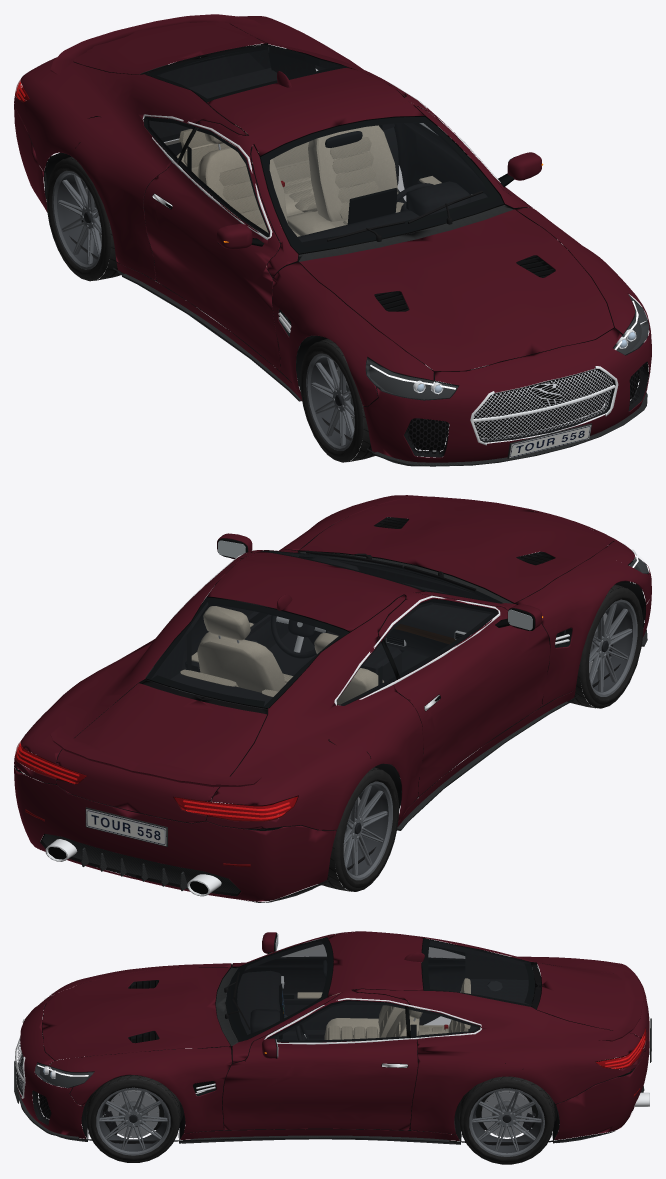
The picture shows the model from 3 angles, top to bottom: view 1: azimuth 30°, elevation 25°; view 2: azimuth 150°, elevation 25°; view 3: azimuth 270°, elevation 25°; orthographic projection. The views are drawn at different scales.
Parts seen in each view (by area): view 1: Body, Wheel_FR, Wheel_RR; view 2: Body, Wheel_RR, Wheel_FR, Steering_Wheel; view 3: Body, Wheel_RL, Wheel_FL.
Boxes of the visible parts, x1=… form: Body: x1=14, y1=14, x2=651, y2=466; Wheel_FR: x1=300, y1=338, x2=375, y2=462; Wheel_RR: x1=46, y1=156, x2=124, y2=281; Body: x1=14, y1=495, x2=651, y2=902; Wheel_RR: x1=318, y1=767, x2=398, y2=891; Wheel_FR: x1=568, y1=584, x2=643, y2=708; Steering_Wheel: x1=270, y1=608, x2=331, y2=658; Body: x1=14, y1=931, x2=651, y2=1145; Wheel_RL: x1=459, y1=1076, x2=554, y2=1164; Wheel_FL: x1=86, y1=1075, x2=180, y2=1162.
Size of the model in its own units: 2.07 by 1.33 by 4.78.
Materials: 60 (14 with a texture image).
